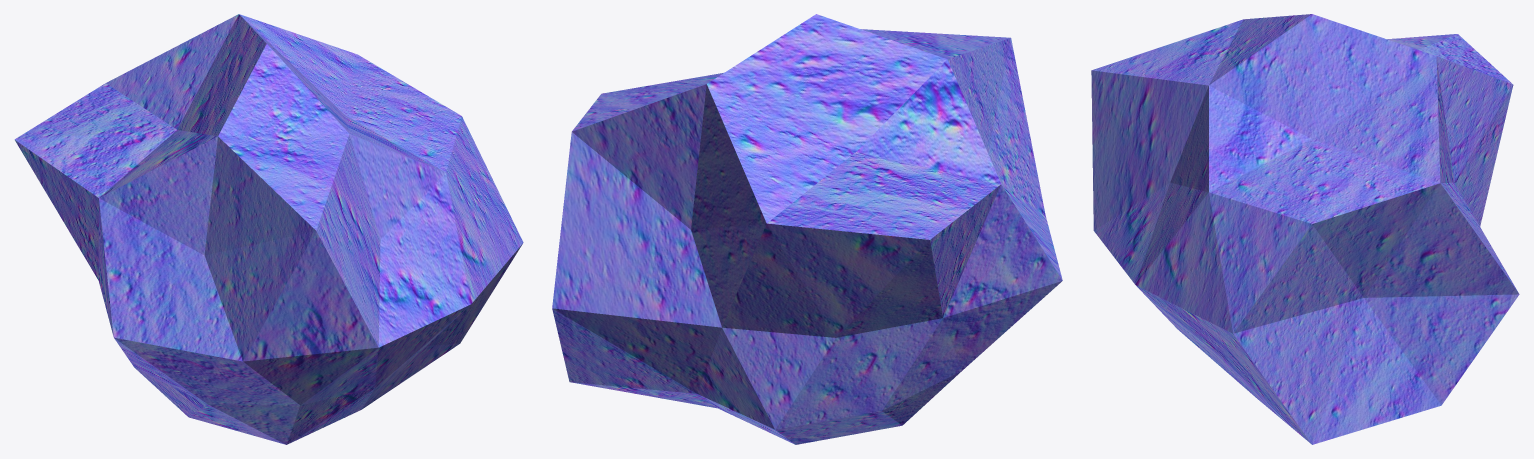
The model's file is smallasteroid2_LOD4.fbx.
The picture shows the model from 3 angles, left to right: view 1: azimuth 30°, elevation 25°; view 2: azimuth 150°, elevation 25°; view 3: azimuth 270°, elevation 25°; orthographic projection. The views are drawn at different scales.
Visible parts, largest first — view 1: Icosphere; view 2: Icosphere; view 3: Icosphere.
Boxes of the visible parts, left/top/right/bottom form: Icosphere: left=14, top=14, right=523, bottom=444; Icosphere: left=552, top=14, right=1062, bottom=444; Icosphere: left=1091, top=14, right=1519, bottom=444.
Size of the model in its own units: 273 by 243 by 256.
